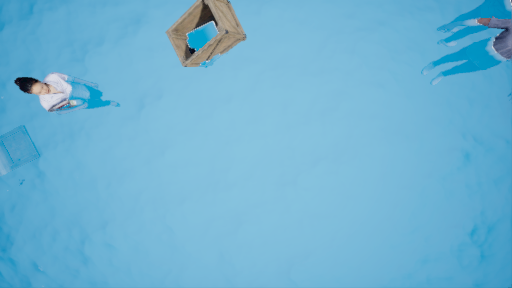person: (18, 68, 124, 119)
